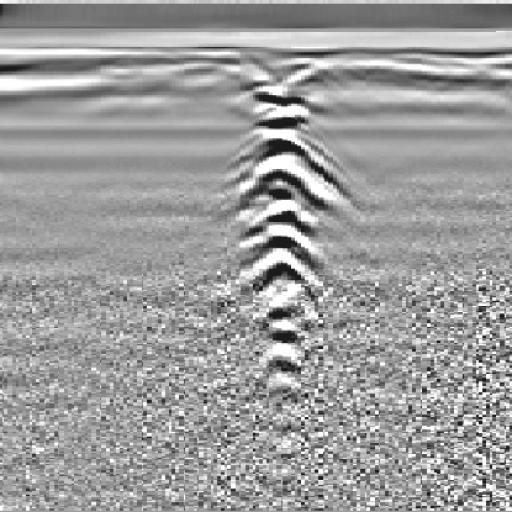metalic: (185, 68, 387, 392)
